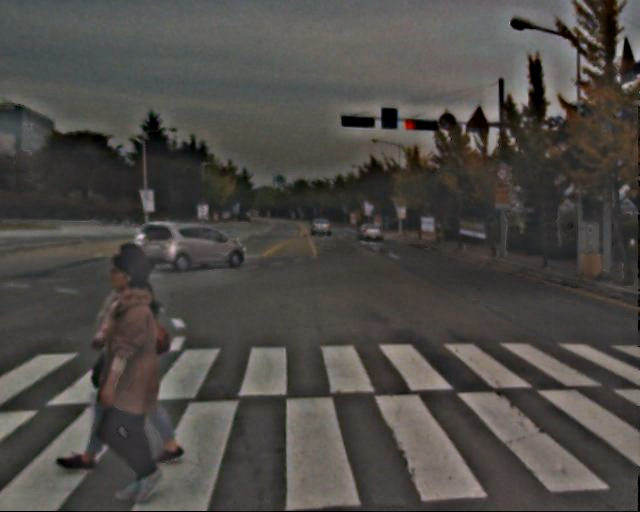person: (84, 255, 194, 493), (84, 242, 189, 463)
